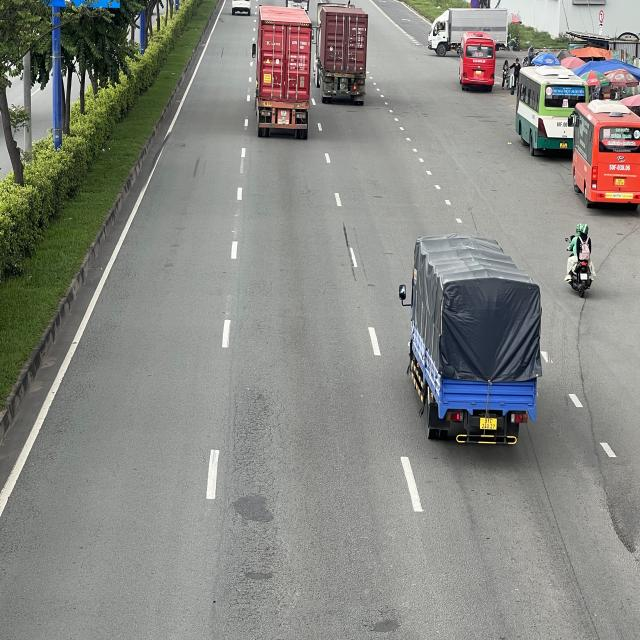coach: (572, 101, 640, 208), (512, 66, 588, 159), (459, 34, 497, 92)
container: (256, 5, 314, 140), (314, 3, 368, 107)
truck: (404, 231, 544, 447), (427, 8, 512, 55)
